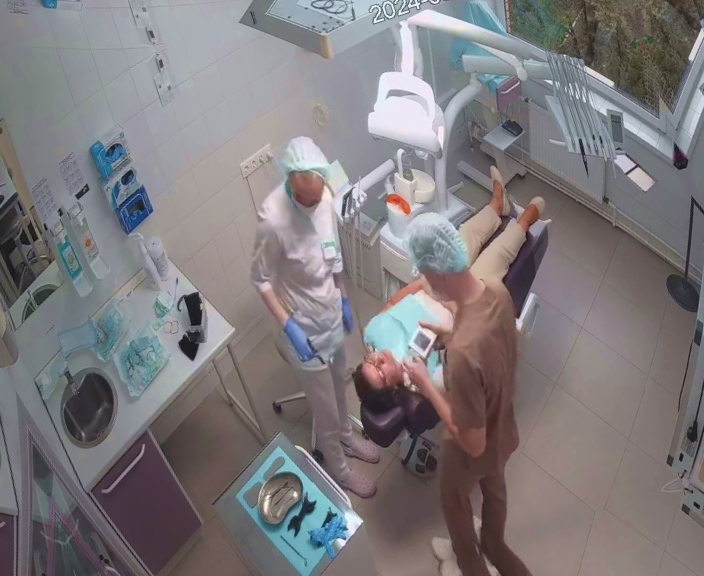Patient: (293, 152, 603, 454)
